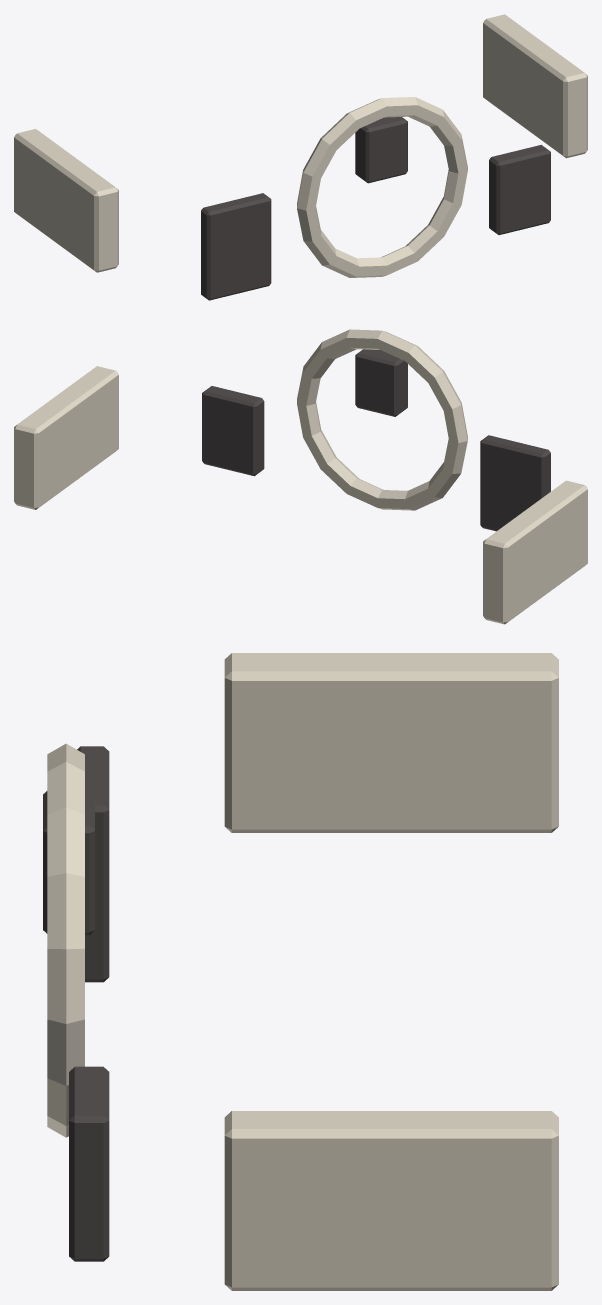
The model's file is hq_damage.glb.
3 renders of one model, top to bottom at view 1: azimuth 30°, elevation 25°; view 2: azimuth 150°, elevation 25°; view 3: azimuth 270°, elevation 25°, orthographic. The views are drawn at different scales.
Parts seen in each view (by area): view 1: Damage, CoreCover, Armor_L, Armor_R; view 2: Damage, Armor_L, Armor_R, CoreCover; view 3: Armor_L, Armor_R, Damage, CoreCover.
Part boxes in pixels (box(x1,y1,x2,y2)): Damage: box(201, 116, 550, 300); CoreCover: box(297, 97, 467, 277); Armor_L: box(14, 129, 118, 272); Armor_R: box(483, 14, 587, 158); Damage: box(202, 349, 550, 531); Armor_L: box(483, 480, 587, 624); Armor_R: box(14, 366, 118, 509); CoreCover: box(297, 329, 467, 510); Armor_L: box(224, 653, 558, 832); Armor_R: box(224, 1111, 558, 1290); Damage: box(43, 746, 109, 1261); CoreCover: box(47, 743, 84, 1137).
Bounding box in the file's own units: 3.96 × 1.37 × 1.79.
